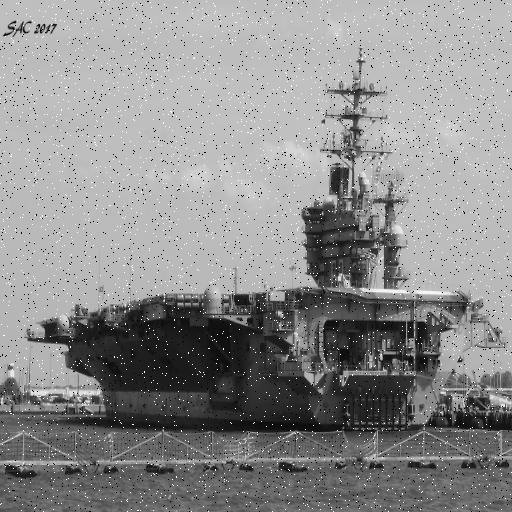Portanaves: (26, 47, 509, 437)
